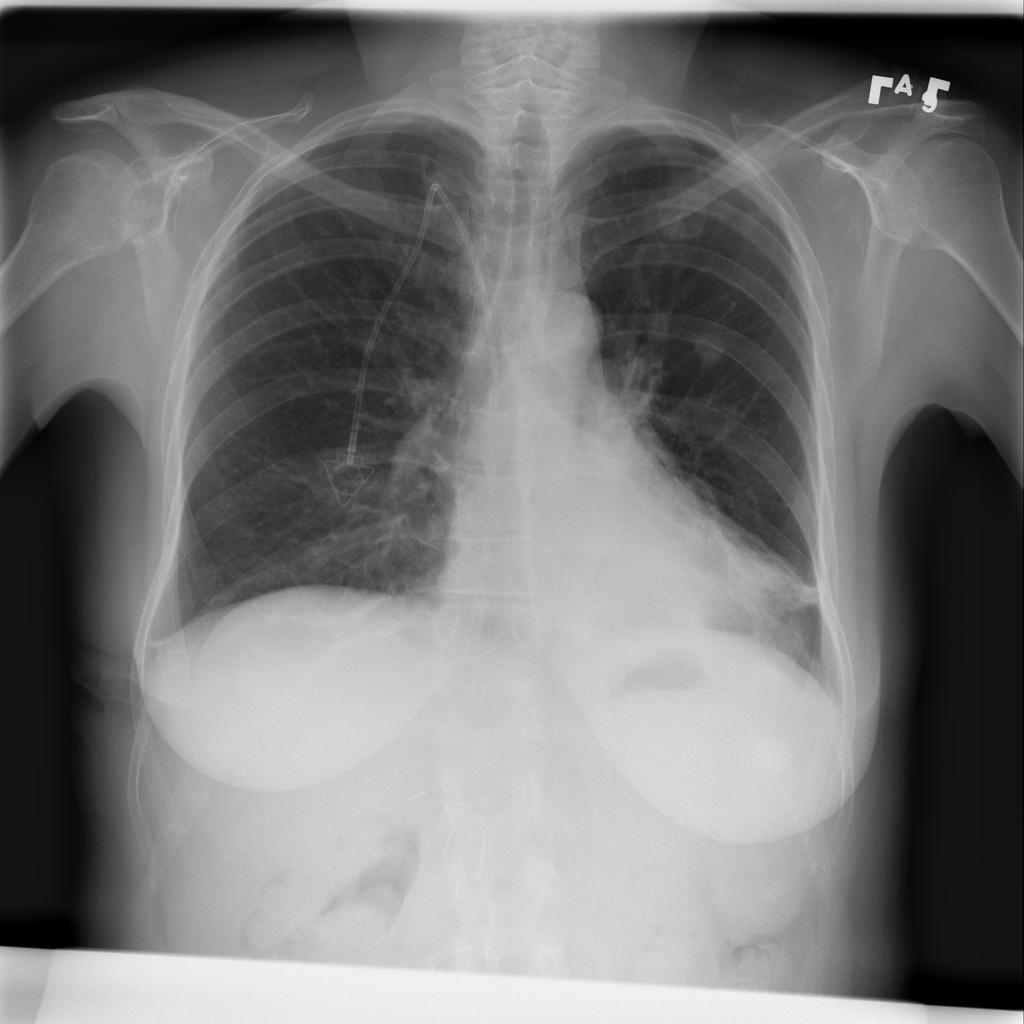nodule: (640, 179, 719, 248), (685, 319, 736, 373), (290, 534, 344, 583)
